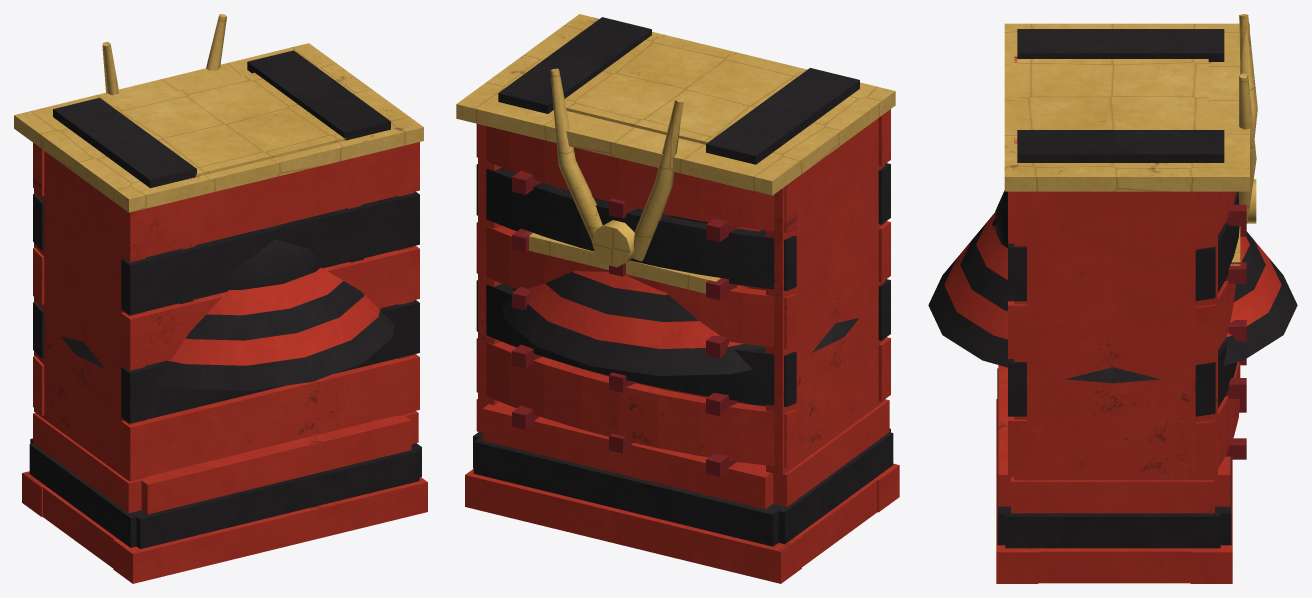
The model's file is HO_Armor_Samurai.fbx.
3 renders of one model, left to right at view 1: azimuth 30°, elevation 25°; view 2: azimuth 150°, elevation 25°; view 3: azimuth 270°, elevation 25°, orthographic. The views are drawn at different scales.
Visible parts, largest first — view 1: HO_Armor_Samurai_Torso__Red_Lacquer, HO_Armor_Samurai_Torso__Black_Lacquer, HO_Armor_Samurai_Torso__Gold_Leaf, HO_Armor_Samurai_Helmet__Black_Lacquer, HO_Armor_Samurai_LeftArm__Gold_Leaf, HO_Armor_Samurai_Helmet__Red_Lacquer, HO_Armor_Samurai_Helmet__Gold_Leaf; view 2: HO_Armor_Samurai_Torso__Red_Lacquer, HO_Armor_Samurai_Torso__Black_Lacquer, HO_Armor_Samurai_Torso__Gold_Leaf, HO_Armor_Samurai_LeftArm__Gold_Leaf, HO_Armor_Samurai_Helmet__Black_Lacquer, HO_Armor_Samurai_Helmet__Gold_Leaf, HO_Armor_Samurai_Helmet__Red_Lacquer, HO_Armor_Samurai_Torso__Cloth_Crimson; view 3: HO_Armor_Samurai_Torso__Red_Lacquer, HO_Armor_Samurai_Torso__Black_Lacquer, HO_Armor_Samurai_Torso__Gold_Leaf, HO_Armor_Samurai_LeftArm__Gold_Leaf, HO_Armor_Samurai_Helmet__Black_Lacquer, HO_Armor_Samurai_Helmet__Red_Lacquer, HO_Armor_Samurai_Helmet__Gold_Leaf, HO_Armor_Samurai_Torso__Cloth_Crimson.
Boxes of the visible parts, <box> form: HO_Armor_Samurai_Torso__Red_Lacquer: <box>22,142,427,583</box>; HO_Armor_Samurai_Torso__Black_Lacquer: <box>29,50,421,549</box>; HO_Armor_Samurai_Torso__Gold_Leaf: <box>14,43,423,212</box>; HO_Armor_Samurai_Helmet__Black_Lacquer: <box>61,223,394,390</box>; HO_Armor_Samurai_LeftArm__Gold_Leaf: <box>113,72,345,176</box>; HO_Armor_Samurai_Helmet__Red_Lacquer: <box>50,248,379,365</box>; HO_Armor_Samurai_Helmet__Gold_Leaf: <box>102,14,226,95</box>; HO_Armor_Samurai_Torso__Red_Lacquer: <box>465,109,899,583</box>; HO_Armor_Samurai_Torso__Black_Lacquer: <box>473,17,893,546</box>; HO_Armor_Samurai_Torso__Gold_Leaf: <box>456,14,895,267</box>; HO_Armor_Samurai_LeftArm__Gold_Leaf: <box>564,35,803,144</box>; HO_Armor_Samurai_Helmet__Black_Lacquer: <box>502,199,859,375</box>; HO_Armor_Samurai_Helmet__Gold_Leaf: <box>524,68,720,293</box>; HO_Armor_Samurai_Helmet__Red_Lacquer: <box>528,262,817,348</box>; HO_Armor_Samurai_Torso__Cloth_Crimson: <box>512,170,737,477</box>; HO_Armor_Samurai_Torso__Red_Lacquer: <box>996,191,1240,583</box>; HO_Armor_Samurai_Torso__Black_Lacquer: <box>997,29,1239,548</box>; HO_Armor_Samurai_Torso__Gold_Leaf: <box>1004,23,1256,223</box>; HO_Armor_Samurai_LeftArm__Gold_Leaf: <box>1017,59,1208,129</box>; HO_Armor_Samurai_Helmet__Black_Lacquer: <box>928,190,1297,383</box>; HO_Armor_Samurai_Helmet__Red_Lacquer: <box>944,212,1281,343</box>; HO_Armor_Samurai_Helmet__Gold_Leaf: <box>1230,14,1257,265</box>; HO_Armor_Samurai_Torso__Cloth_Crimson: <box>1225,204,1246,459</box>.
Size of the model in its own units: 2.32 by 3.2 by 2.32.
